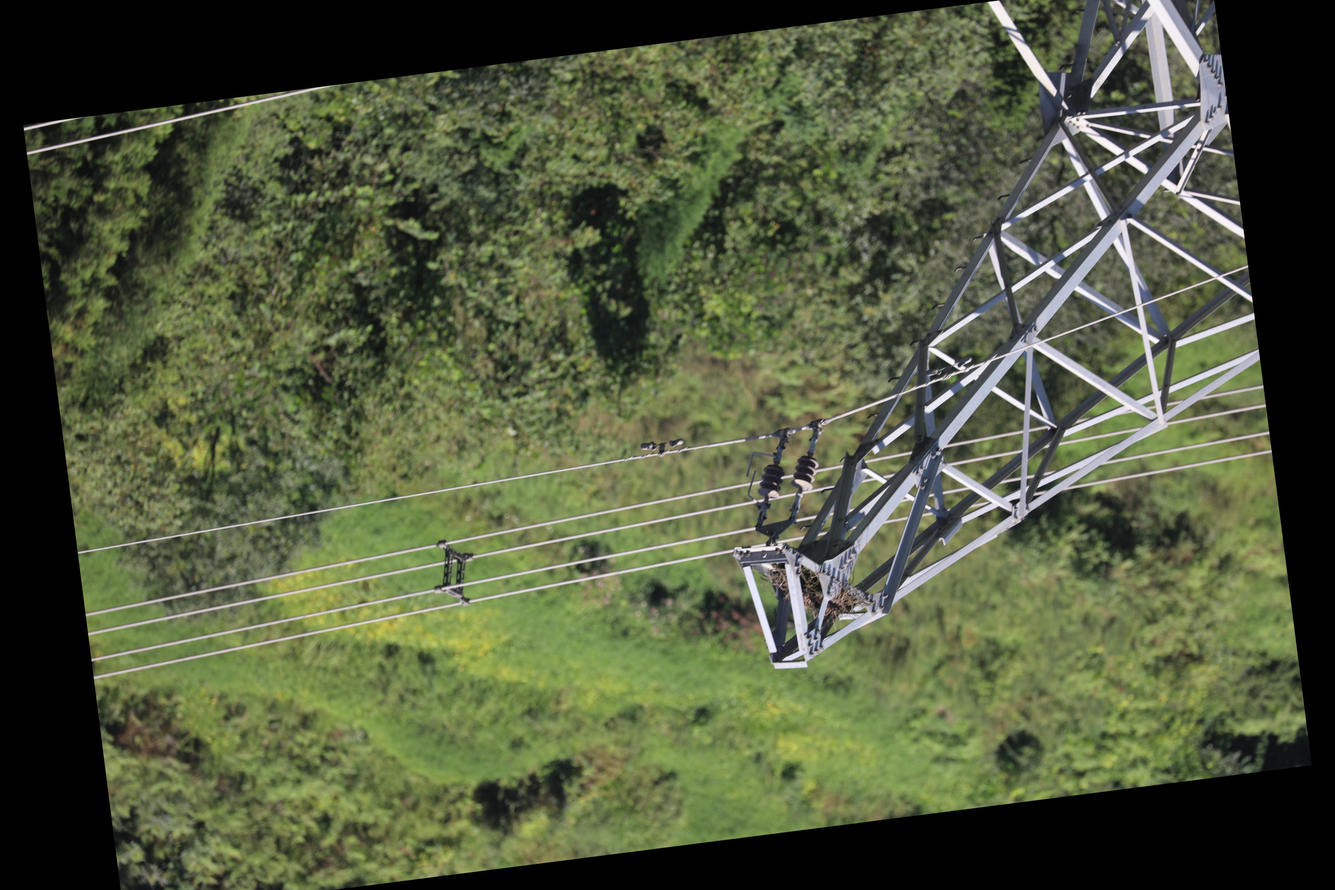damper: (922, 352, 977, 385), (637, 435, 688, 463)
